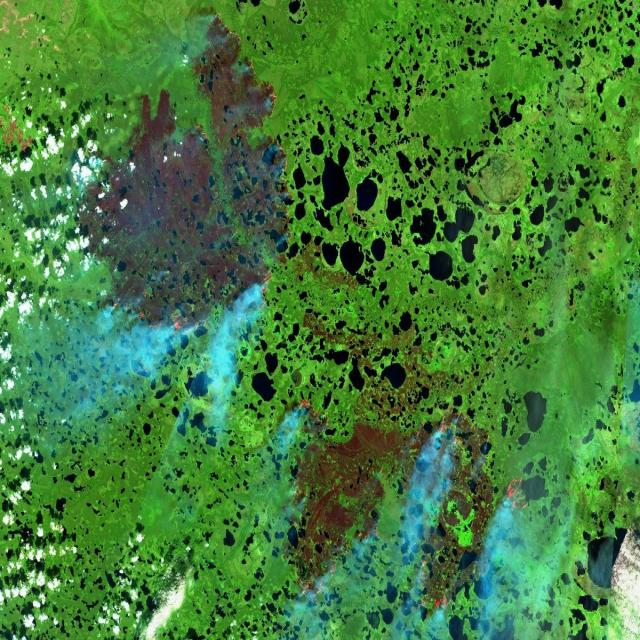fire: (272, 508, 386, 616), (210, 12, 282, 130), (106, 284, 210, 340), (254, 136, 298, 258), (407, 552, 460, 618), (294, 383, 334, 442), (496, 472, 532, 522), (254, 260, 280, 312)
